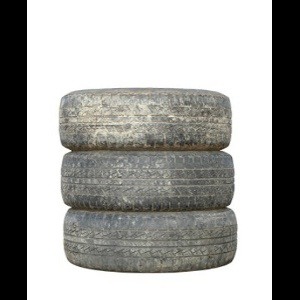tire: (62, 207, 237, 272), (59, 87, 232, 152), (60, 151, 235, 210)
